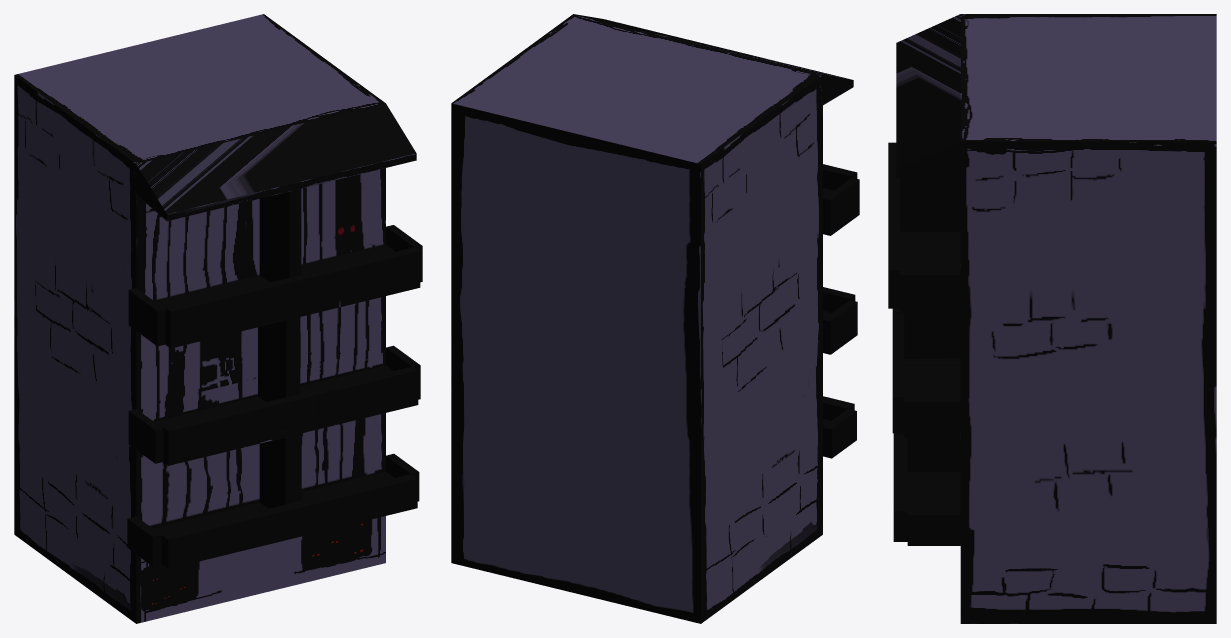
Rendered from tallapartment.fbx.
3 renders of one model, left to right at view 1: azimuth 30°, elevation 25°; view 2: azimuth 150°, elevation 25°; view 3: azimuth 270°, elevation 25°, orthographic. The views are drawn at different scales.
Visible parts, largest first — view 1: TallApartment; view 2: TallApartment; view 3: TallApartment.
Boxes of the visible parts, box(x1,y1,x2,y2) form: TallApartment: box(14, 14, 422, 623); TallApartment: box(451, 14, 859, 623); TallApartment: box(888, 14, 1216, 623).
Size of the model in its own units: 517 by 852 by 525.
